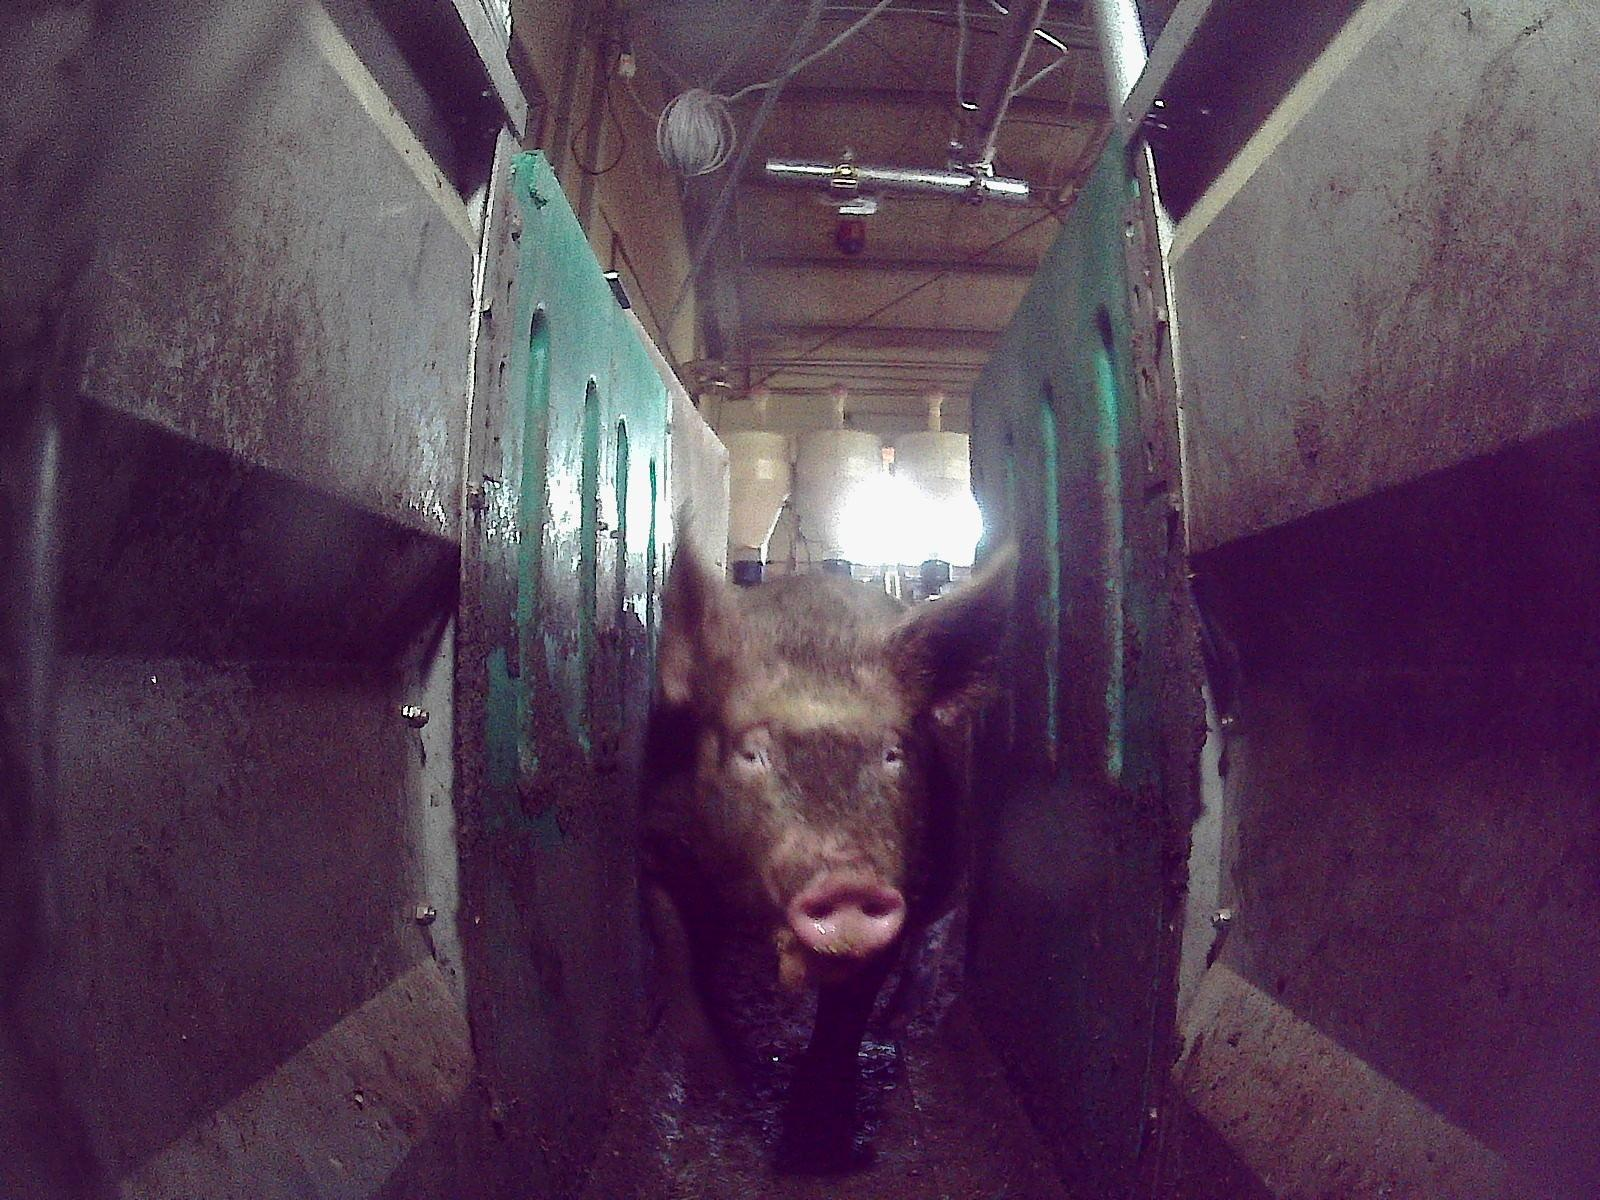Face: (702, 596, 920, 978)
